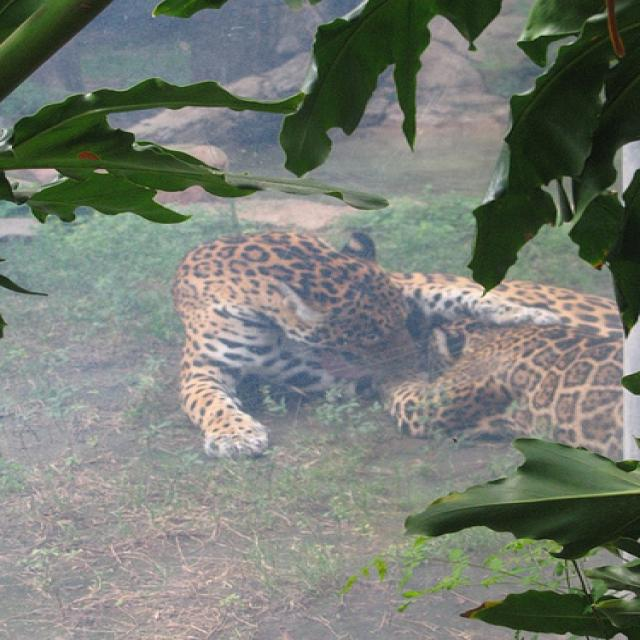Leopard: (172, 229, 635, 460)
